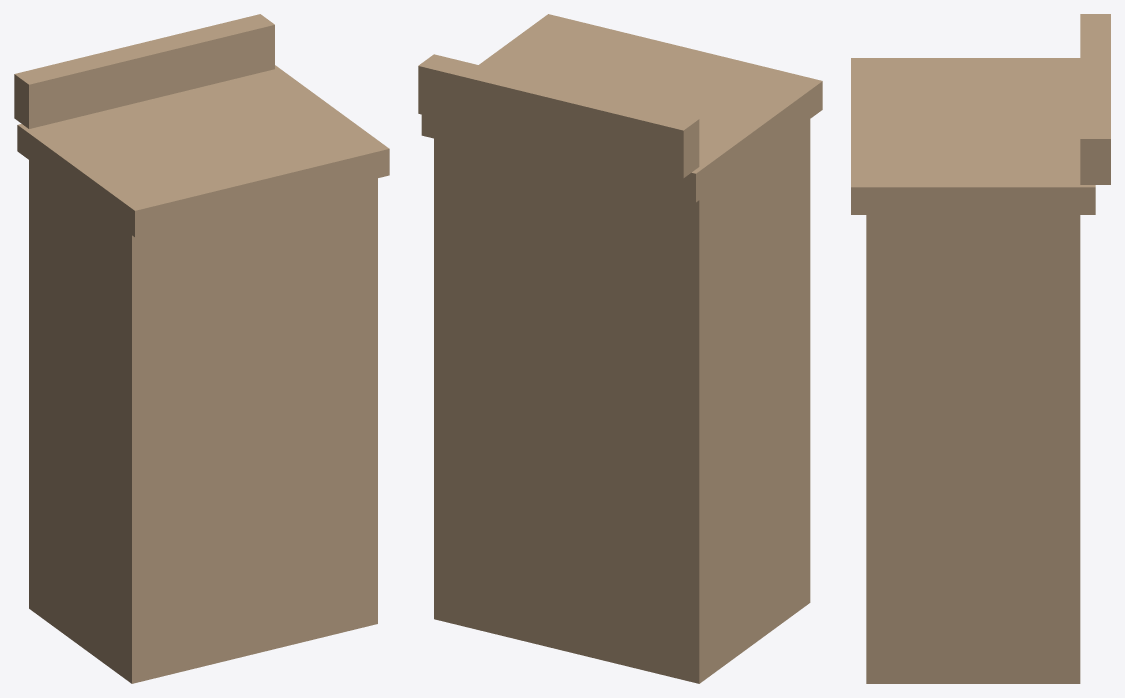
File: lectern-PRIM-001.glb
3 views of the same model, side by side, from view 1: azimuth 30°, elevation 25°; view 2: azimuth 150°, elevation 25°; view 3: azimuth 270°, elevation 25° (orthographic). The views are drawn at different scales.
Visible parts, largest first — view 1: p0, p1, p2; view 2: p0, p1, p2; view 3: p0, p1, p2.
Boxes of the visible parts, x1,y1,x2,y2 form: p0: (29,160,377,683); p1: (17,65,389,237); p2: (14,14,274,128); p0: (434,119,810,683); p1: (421,14,822,202); p2: (418,54,699,178); p0: (866,215,1080,683); p1: (851,58,1095,214); p2: (1080,14,1110,184).
Bounding box in the file's own units: 0.6 × 1.18 × 0.51.
